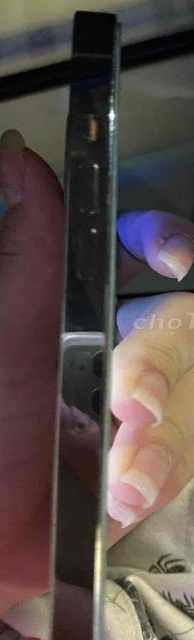scratch: (71, 83, 132, 201)
